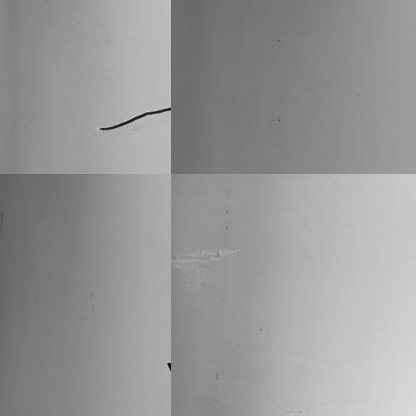fengxi: (94, 105, 171, 137)
sunshang: (170, 246, 235, 294)
